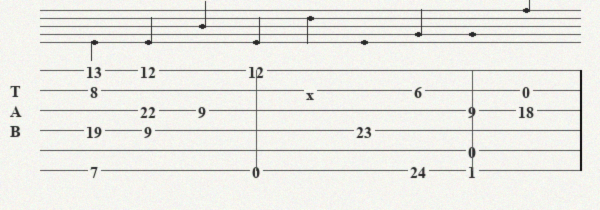0: (252, 163, 264, 178), (468, 143, 480, 158), (522, 83, 534, 98)
1: (468, 163, 480, 178)
12: (140, 63, 160, 78), (248, 63, 268, 78)
13: (86, 63, 106, 78)
18: (518, 103, 538, 118)
19: (86, 123, 106, 138)
22: (140, 103, 160, 118)
23: (356, 123, 376, 138)
24: (410, 163, 430, 178)
6: (414, 83, 426, 98)
7: (90, 163, 102, 178)
8: (90, 83, 102, 98)
9: (144, 123, 156, 138), (198, 103, 210, 118), (468, 103, 480, 118)
x: (306, 85, 318, 96)
